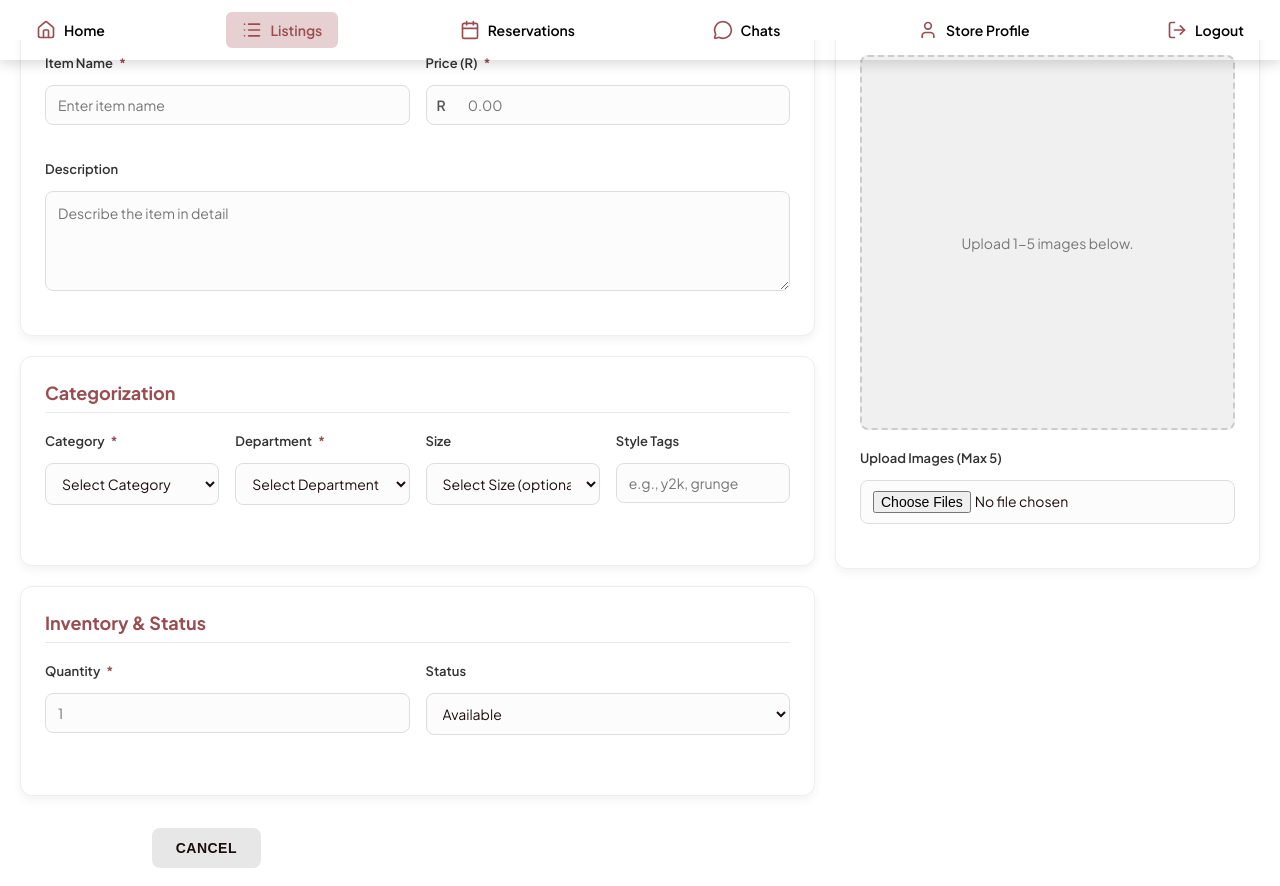
Test case: AddListing › Form Validation › validates quantity is positive
Step 1. Type "-1" into the number field labelled "Quantity *" → (227, 713), box [45,693,410,733]
(page scrolled)
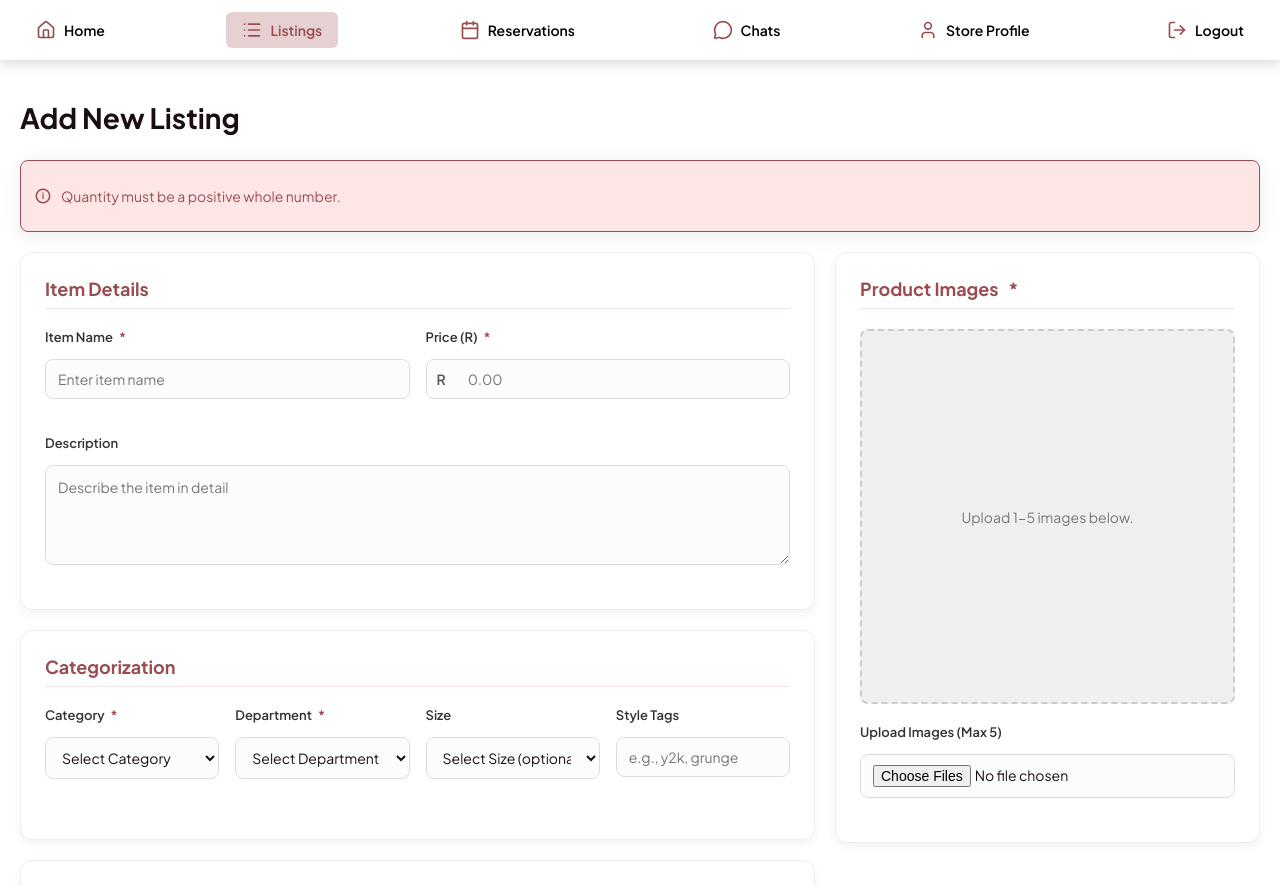
Expected: the text "Quantity must be a positive whole number." is shown, [61,187,341,205]
